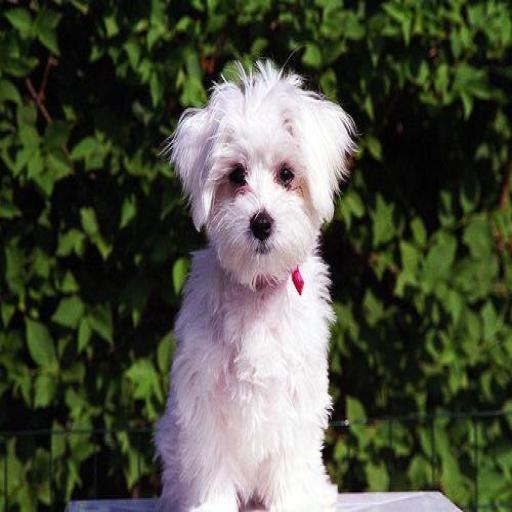dog_face: (167, 74, 352, 301)
